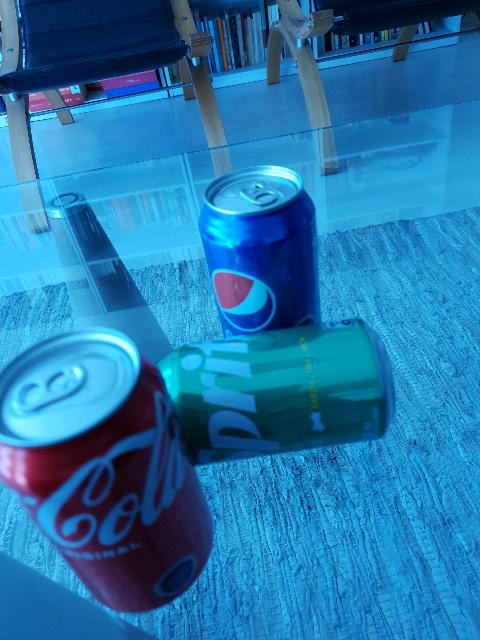coke: (0, 328, 222, 612)
pepsi: (204, 166, 324, 334)
sprite: (162, 313, 398, 465)
